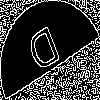D: (25, 24, 66, 82)
